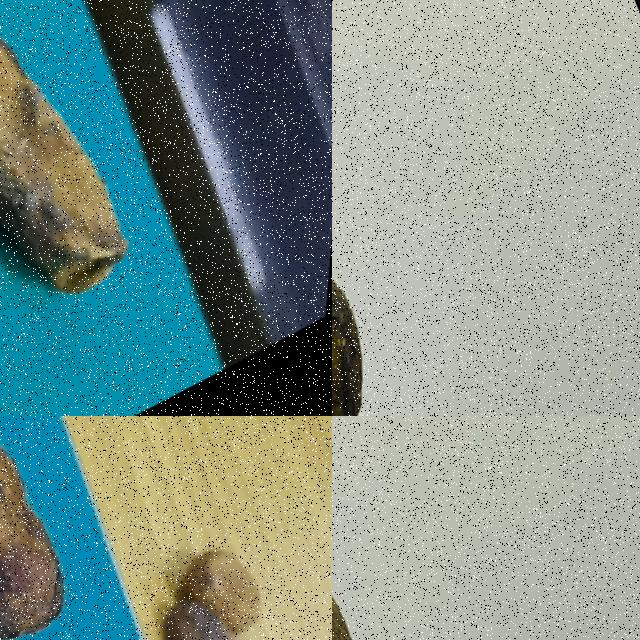Fine_cocoabeans: (332, 107, 492, 415), (0, 416, 209, 639), (332, 416, 455, 639)
Flat_cocoabeans: (0, 0, 220, 413)
